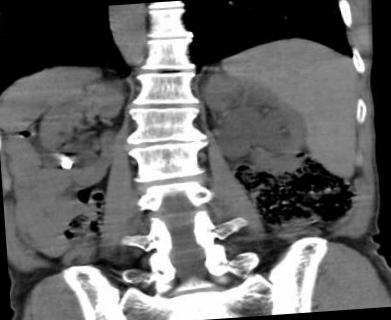Tas_Var: (56, 154, 74, 173)
